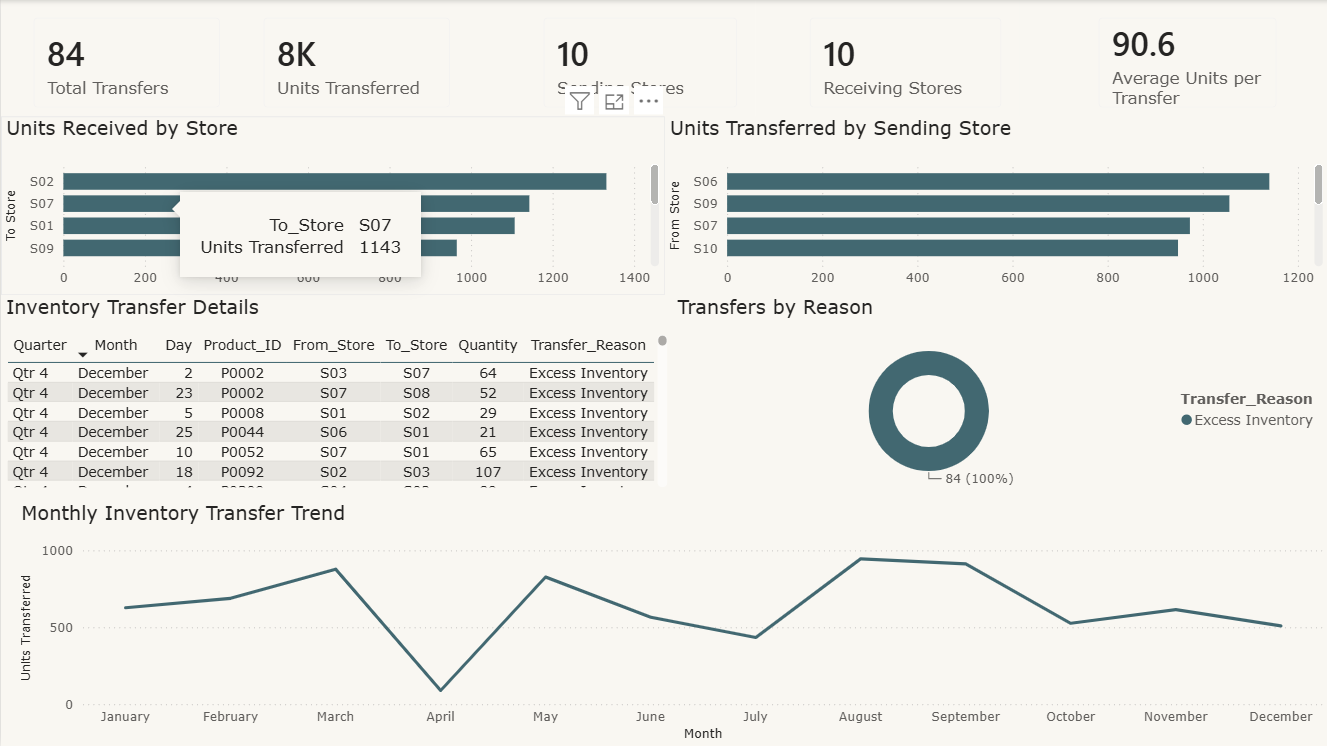

The page's visual inventory and layout, read from the dashboard file:
{"tool":"powerbi","page":{"name":"Inventory Transfers","canvas":[1280,720],"ordinal":3},"visuals":[{"type":"cardVisual","fields":{"Data":["Measures 1.Total Transfers"]},"box":[14,0,214,121.9],"z":0},{"type":"cardVisual","fields":{"Data":["Measures 1.Units Transferred"]},"box":[236.3,0,214,121.9],"z":1000},{"type":"cardVisual","fields":{"Data":["Measures 1.Sending Stores"]},"box":[506.9,0,221.8,121.9],"z":2000},{"type":"cardVisual","fields":{"Data":["Measures 1.Receiving Stores"]},"box":[763.5,0,219.2,121.9],"z":3000},{"type":"cardVisual","fields":{"Data":["Measures 1.Average Units per Transfer"]},"box":[1042.4,0,206.2,121.9],"z":4000},{"type":"barChart","title":"Units Received by Store","fields":{"Category":["Inventory_Transfers.To_Store"],"Y":["Measures 1.Units Transferred"]},"box":[0,111.8,640.3,172.8],"z":5000},{"type":"barChart","title":"Units Transferred by Sending Store","fields":{"Category":["Inventory_Transfers.From_Store"],"Y":["Measures 1.Units Transferred"]},"box":[640.3,111.8,640.3,172.8],"z":6000},{"type":"tableEx","title":"Inventory Transfer Details","fields":{"Values":["Inventory_Transfers.Transfer_Date.Variation.Date Hierarchy.Quarter","Inventory_Transfers.Transfer_Date.Variation.Date Hierarchy.Month","Inventory_Transfers.Transfer_Date.Variation.Date Hierarchy.Day","Inventory_Transfers.Product_ID","Inventory_Transfers.From_Store","Inventory_Transfers.To_Store","Inventory_Transfers.Quantity","Inventory_Transfers.Transfer_Reason"]},"box":[0,284.6,647.9,190.6],"z":7000},{"type":"donutChart","title":"Transfers by Reason","fields":{"Category":["Inventory_Transfers.Transfer_Reason"],"Y":["CountNonNull(Inventory_Transfers.Transfer_ID)"]},"box":[647.9,284.6,632.6,190.6],"z":8000},{"type":"lineChart","title":"Monthly Inventory Transfer Trend","fields":{"Y":["Measures 1.Units Transferred"],"Category":["Inventory_Transfers.Transfer_Date.Variation.Date Hierarchy.Month"]},"box":[14,484,1266.5,236.3],"z":9000}]}

Visuals, with their boxes in screenshot pixels (x1, y1, x2, y2), scaled from the page's 1280x720 canvas onto the 1327x746 screenshot:
cardVisual - Measures 1.Total Transfers: 15 0 236 126
cardVisual - Measures 1.Units Transferred: 245 0 467 126
cardVisual - Measures 1.Sending Stores: 526 0 755 126
cardVisual - Measures 1.Receiving Stores: 792 0 1019 126
cardVisual - Measures 1.Average Units per Transfer: 1081 0 1294 126
"Units Received by Store" barChart: 0 116 664 295
"Units Transferred by Sending Store" barChart: 664 116 1326 295
"Inventory Transfer Details" tableEx: 0 295 672 492
"Transfers by Reason" donutChart: 672 295 1326 492
"Monthly Inventory Transfer Trend" lineChart: 15 501 1326 745
